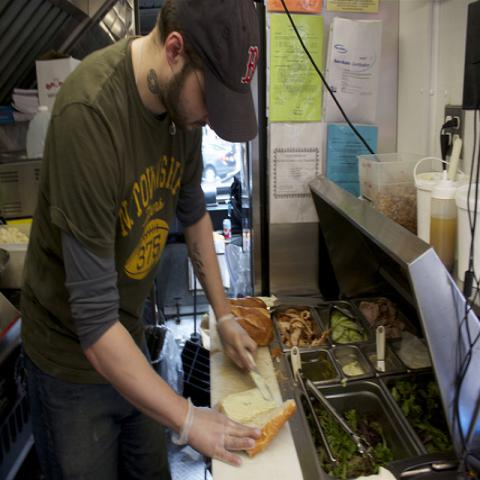car: (203, 138, 236, 184)
